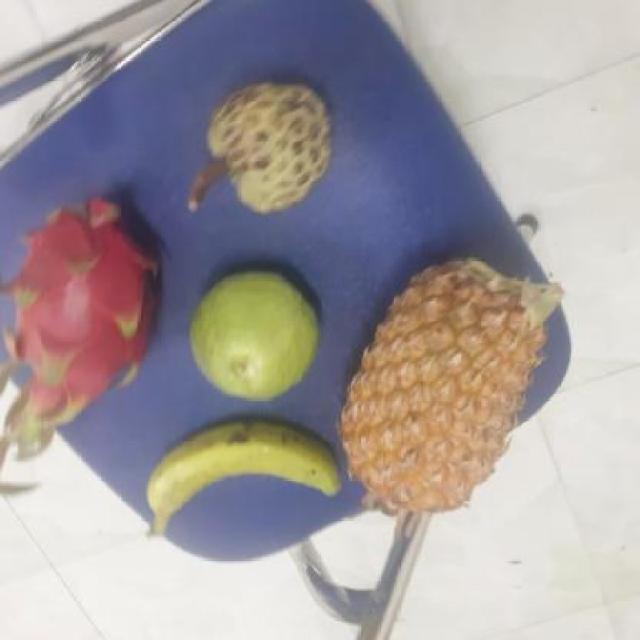dragon fruit: (0, 194, 169, 432)
guava: (188, 269, 328, 398)
pineapple: (348, 252, 557, 503)
sugar apple: (203, 82, 340, 210)
